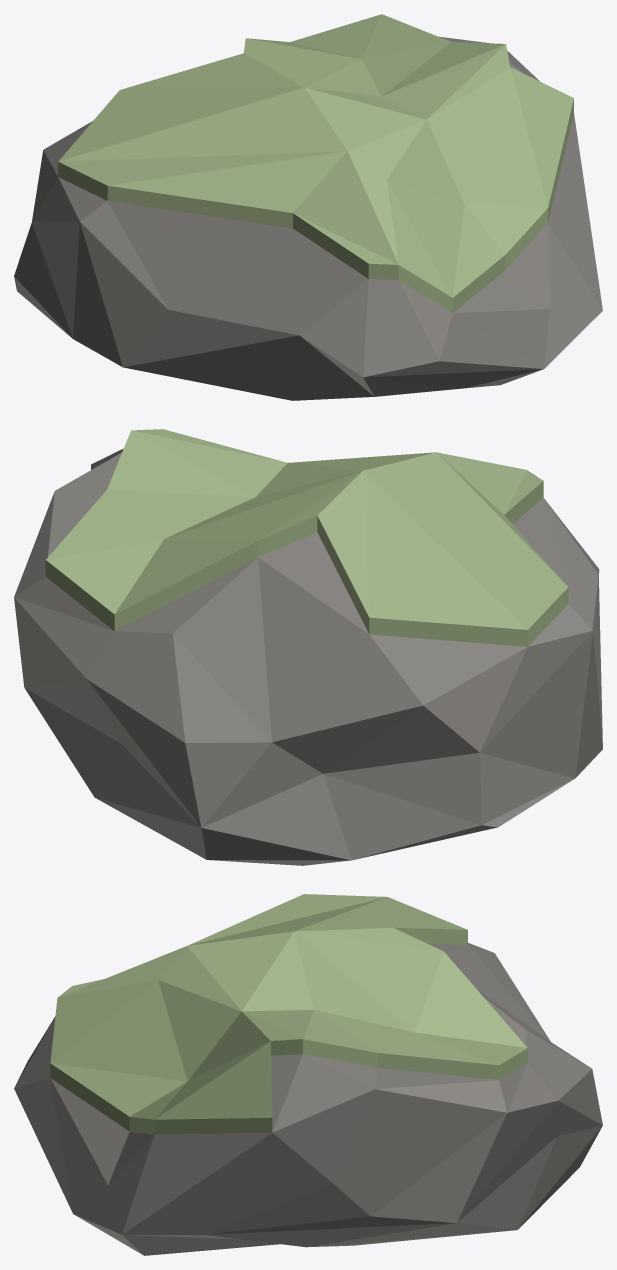
File: rock_moss1_lowpoly.fbx
3 views of the same model, one above another, from view 1: azimuth 30°, elevation 25°; view 2: azimuth 150°, elevation 25°; view 3: azimuth 270°, elevation 25° (orthographic). The views are drawn at different scales.
Parts seen in each view (by area): view 1: Rock2; view 2: Rock2; view 3: Rock2.
Boxes of the visible parts, <box> form: Rock2: <box>14,14,602,400</box>; Rock2: <box>14,429,602,865</box>; Rock2: <box>14,894,602,1255</box>.
Size of the model in its own units: 2.84 by 1.63 by 3.13.
